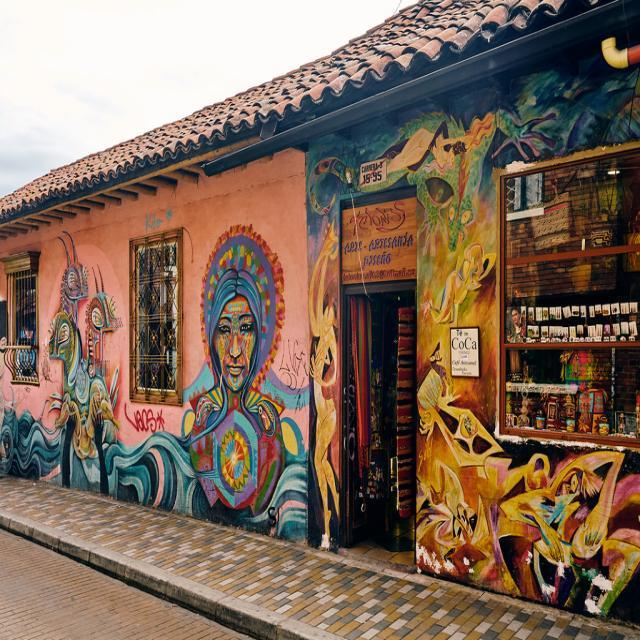-: (306, 66, 640, 616), (4, 232, 308, 538)
